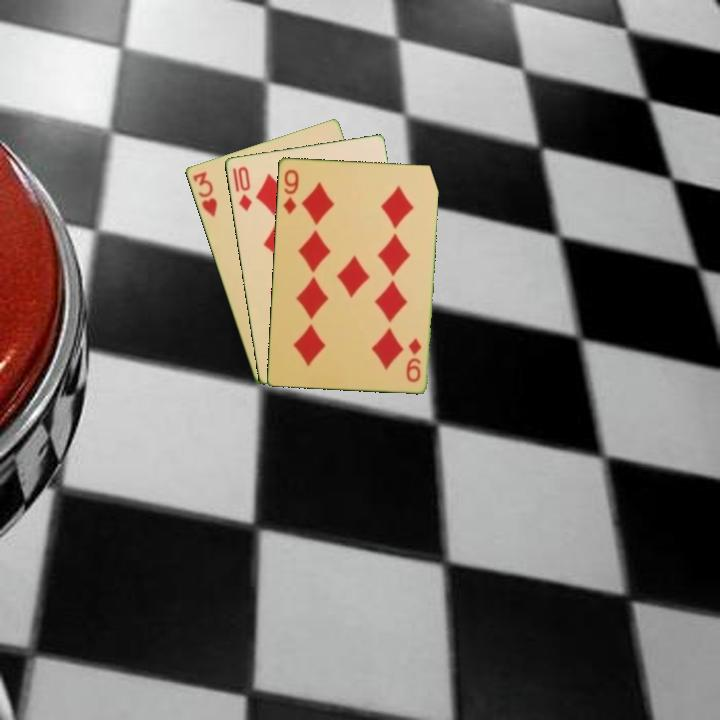10d: (234, 163, 254, 214)
3h: (189, 168, 220, 220)
9d: (402, 334, 424, 385), (280, 166, 301, 217)
